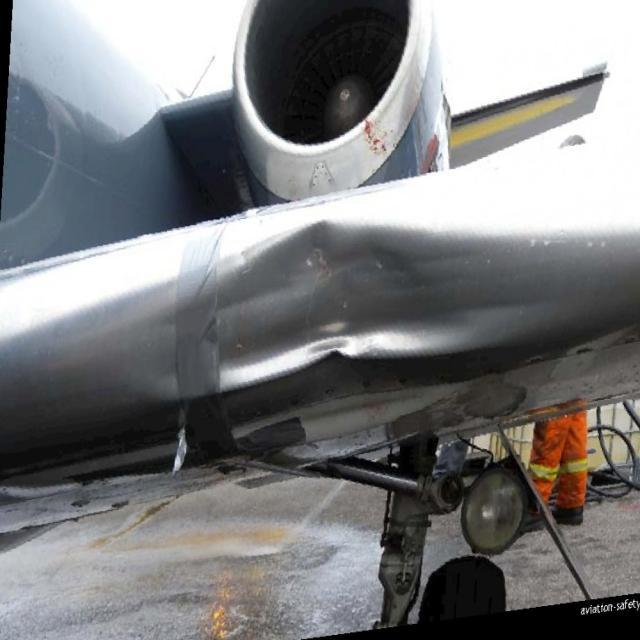dent: (153, 241, 561, 359)
